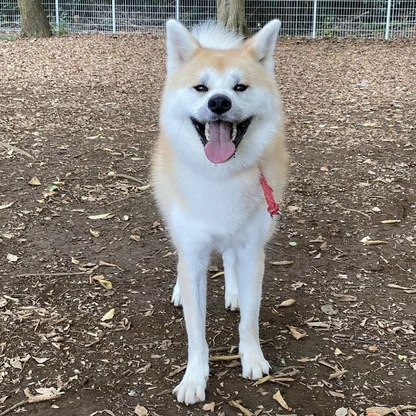akita: (143, 9, 298, 412)
